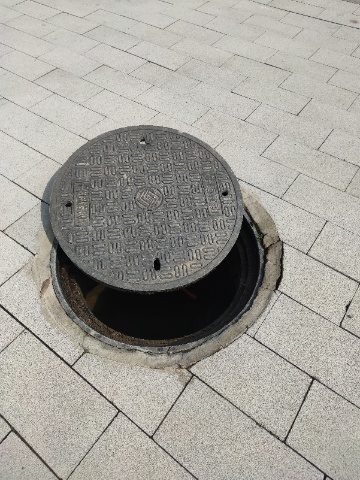uncovered: (50, 125, 267, 350)
